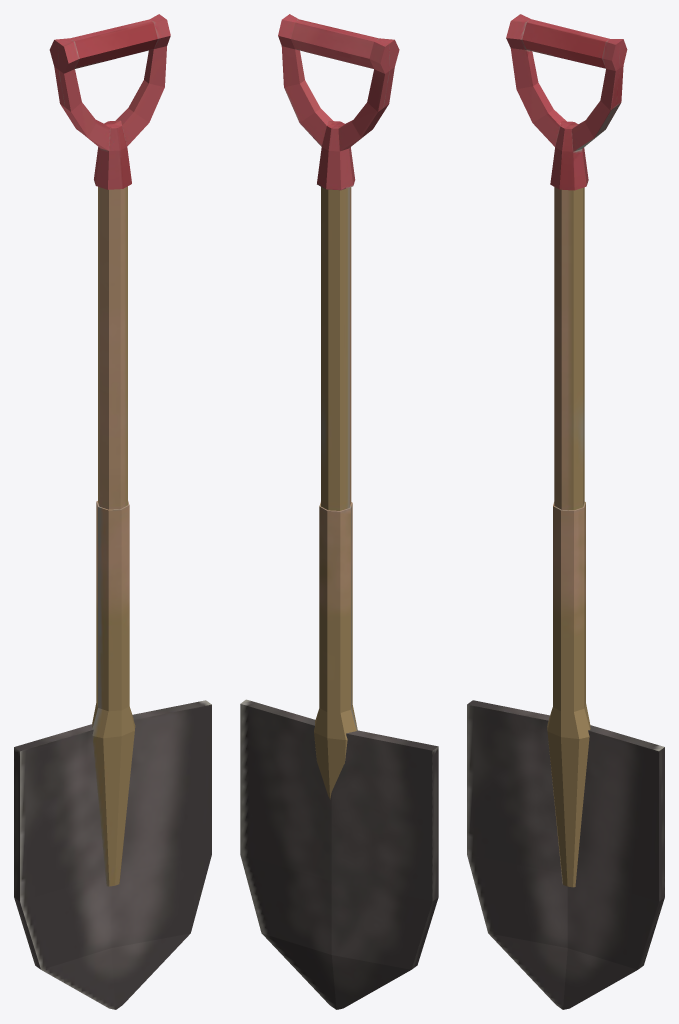
3 renders of one model, left to right at view 1: azimuth 30°, elevation 25°; view 2: azimuth 150°, elevation 25°; view 3: azimuth 330°, elevation 25°, orthographic.
Visible parts, largest first — view 1: pa; view 2: pa; view 3: pa.
Boxes of the visible parts, box(x1,y1,x2,y2) form: pa: box(14, 14, 211, 1009); pa: box(240, 14, 438, 1009); pa: box(467, 14, 664, 1009).
Bounding box in the file's own units: 179 × 870 × 32.06.
